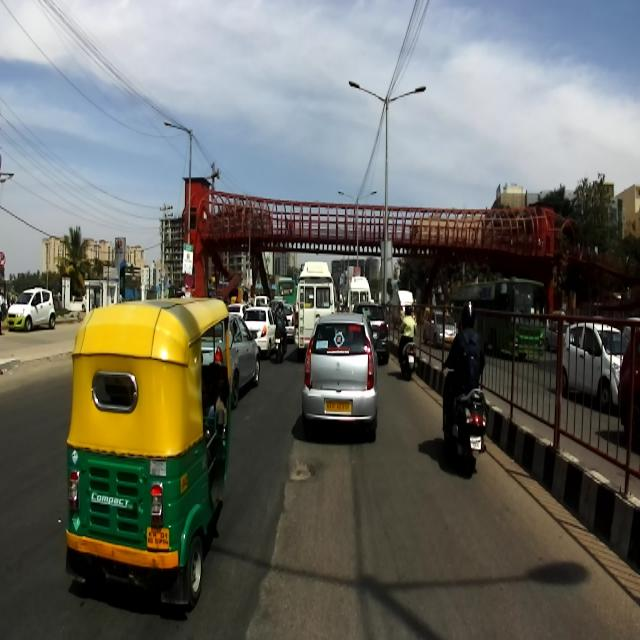Car_Maruti-Suzuki: (561, 321, 631, 407), (6, 284, 58, 345)
Car_TATA: (301, 313, 383, 441)
Car_Toyota: (201, 311, 261, 408)
autorickshaw: (64, 298, 232, 612)
mini-bus: (294, 259, 338, 363), (345, 270, 372, 330)
scooter: (442, 356, 486, 476), (396, 326, 418, 382)
